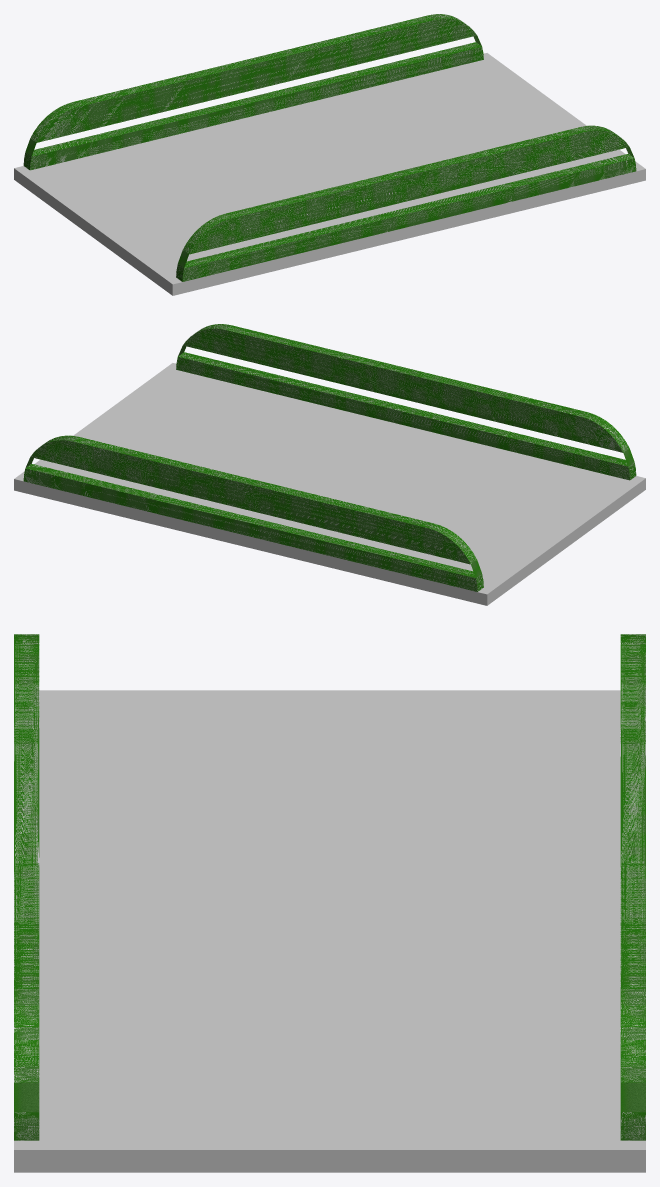
File: pont_dae.dae
3 renders of one model, top to bottom at view 1: azimuth 30°, elevation 25°; view 2: azimuth 150°, elevation 25°; view 3: azimuth 270°, elevation 25°, orthographic. The views are drawn at different scales.
Visible parts, largest first — view 1: SketchUp (×5); view 2: SketchUp (×5); view 3: SketchUp (×7).
Boxes of the visible parts, <box> form: SketchUp (×5): <box>14,14,645,295</box>; SketchUp (×5): <box>14,324,645,605</box>; SketchUp (×7): <box>14,634,645,1172</box>.
Bounding box in the file's own units: 169 × 98.43 × 21.65.
